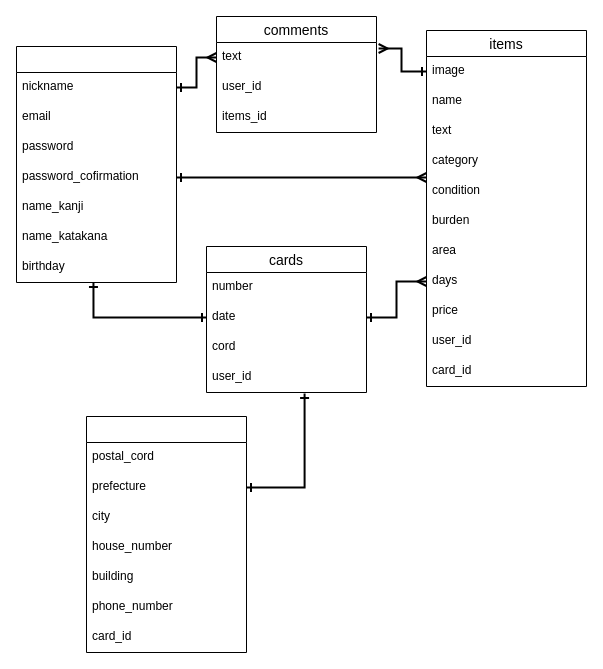
The diagram is 603 pixels wide and 669 high, and some of its shapes have lost their labels. Here are the shapes that lost their labels. From the top down, the box of each, then its label:
(16, 46, 176, 282): users
(86, 416, 246, 652): address
